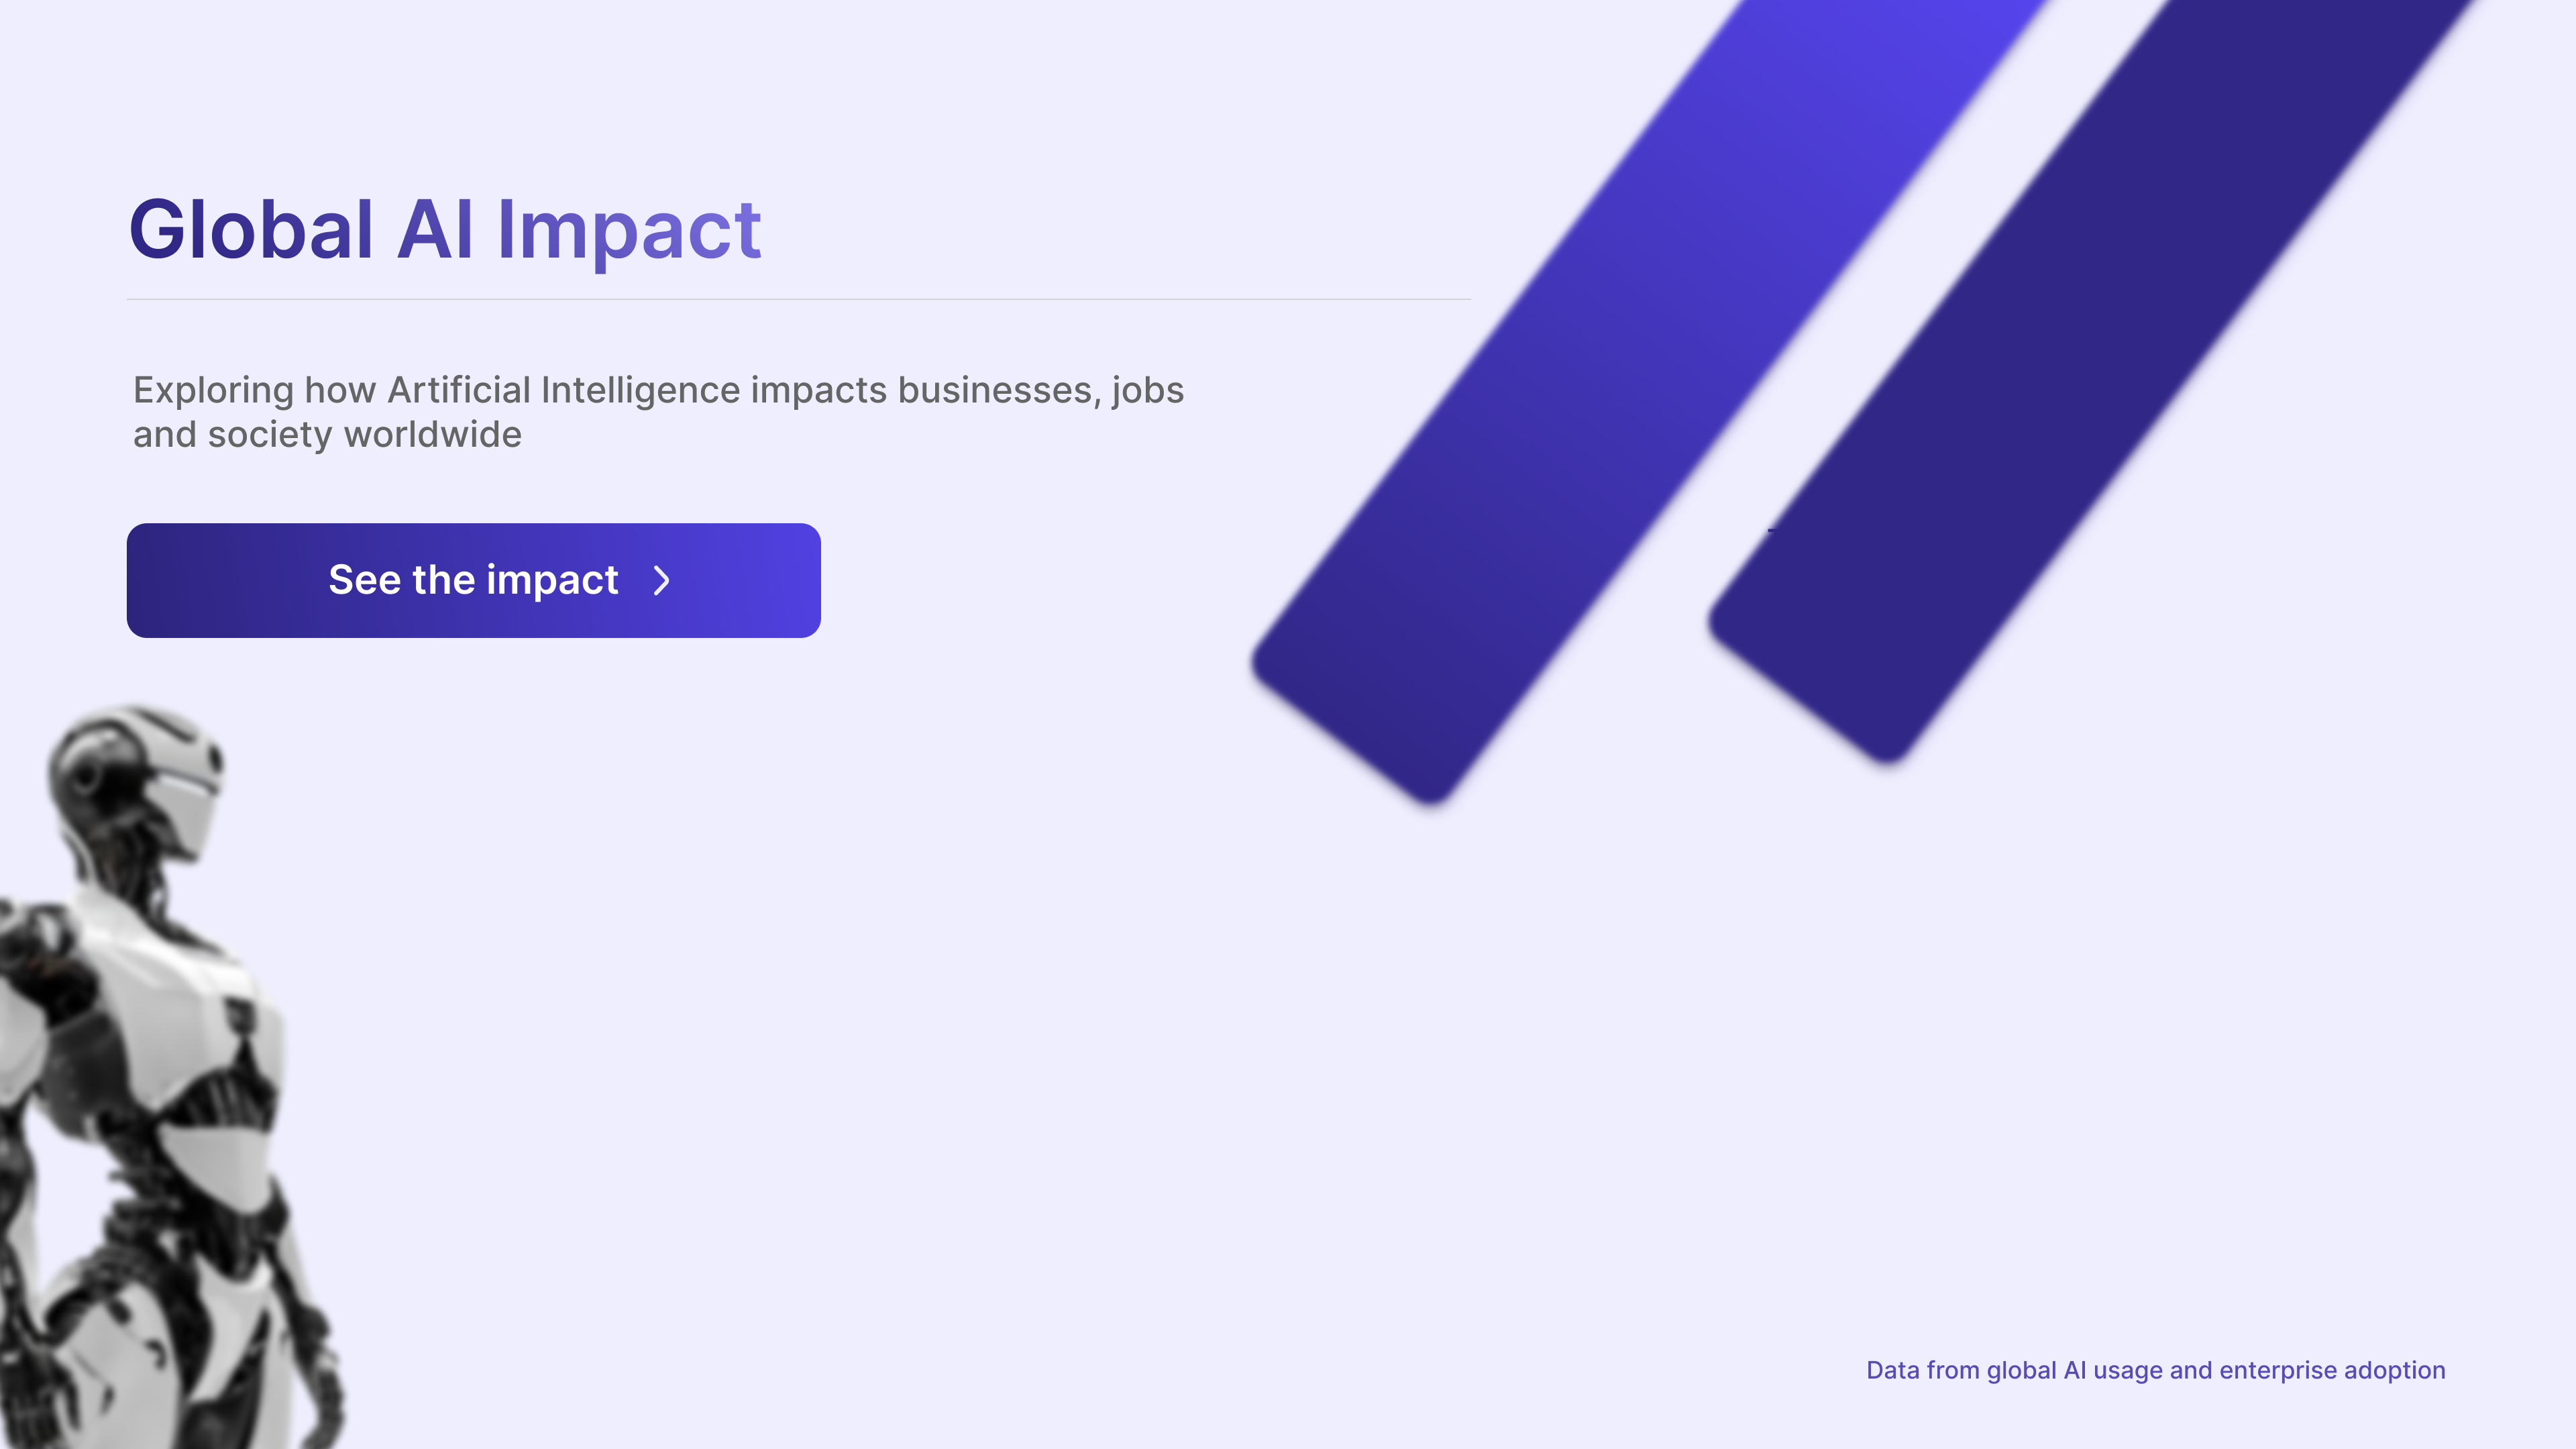

This screenshot's page, from the dashboard's own definition file:
{"tool":"powerbi","page":{"name":"Home","canvas":[1280,720],"ordinal":0},"visuals":[{"type":"actionButton","box":[65.5,261,340.7,51.4],"z":0}]}

Visuals, with their boxes in screenshot pixels (x1, y1, x2, y2), scaled from the page's 1280x720 canvas onto the 2576x1449 screenshot:
actionButton: BBox(131, 525, 818, 629)
